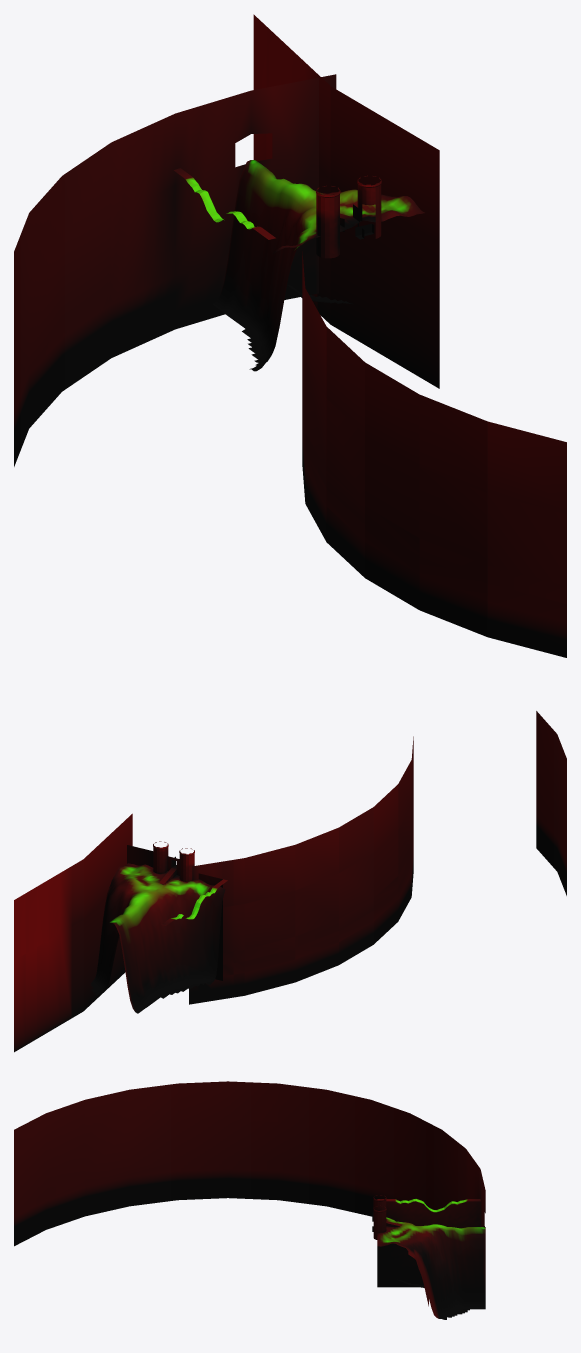
Rendered from castle_entrance.glb.
The picture shows the model from 3 angles, top to bottom: view 1: azimuth 30°, elevation 25°; view 2: azimuth 150°, elevation 25°; view 3: azimuth 270°, elevation 25°; orthographic projection. The views are drawn at different scales.
Visible parts, largest first — view 1: GreatWall, Terrain, Gate, TrenchWall; view 2: GreatWall, Terrain, TrenchWall, Gate; view 3: GreatWall, Terrain, TrenchWall, Gate.
Boxes of the visible parts, x1=… form: GreatWall: x1=14, y1=14, x2=566, y2=657; Terrain: x1=212, y1=160, x2=424, y2=371; Gate: x1=316, y1=175, x2=381, y2=258; TrenchWall: x1=174, y1=168, x2=275, y2=239; GreatWall: x1=14, y1=711, x2=566, y2=1052; Terrain: x1=88, y1=863, x2=225, y2=1013; TrenchWall: x1=127, y1=845, x2=227, y2=980; Gate: x1=153, y1=841, x2=194, y2=884; GreatWall: x1=14, y1=1081, x2=485, y2=1246; Terrain: x1=377, y1=1217, x2=485, y2=1319; TrenchWall: x1=377, y1=1199, x2=480, y2=1287; Gate: x1=372, y1=1195, x2=402, y2=1239.
Size of the model in its own units: 120 by 60.63 by 215.
